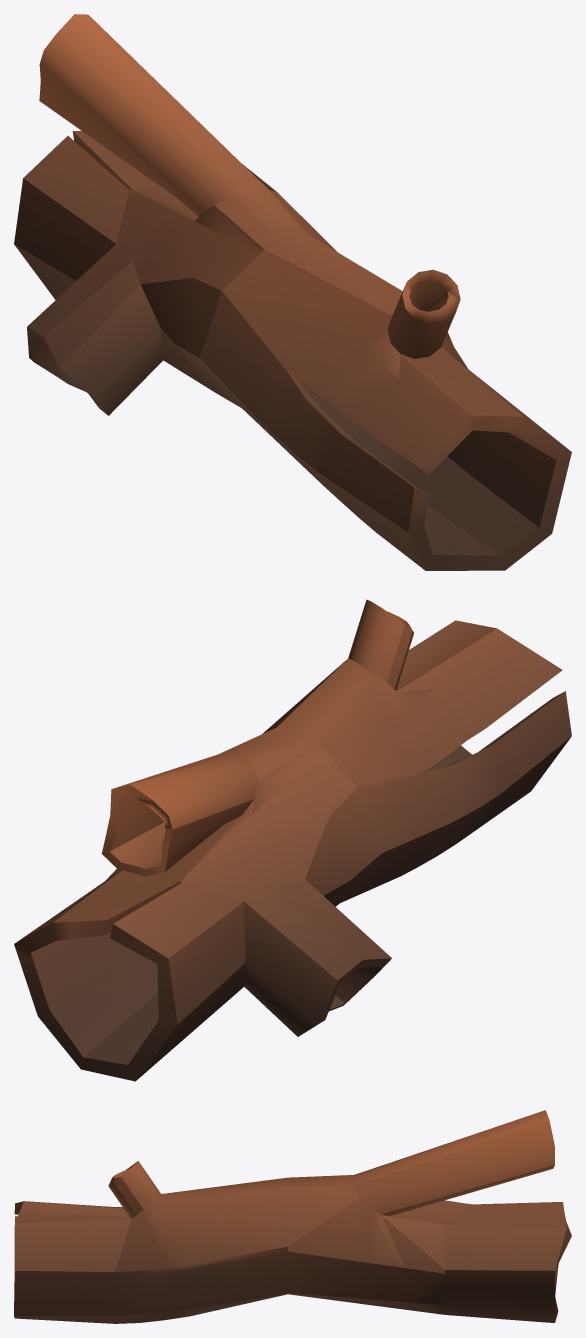
Rendered from maderaCaida4.fbx.
The picture shows the model from 3 angles, top to bottom: view 1: azimuth 30°, elevation 25°; view 2: azimuth 150°, elevation 25°; view 3: azimuth 270°, elevation 25°; orthographic projection. The views are drawn at different scales.
Parts seen in each view (by area): view 1: maderaCaida4; view 2: maderaCaida4; view 3: maderaCaida4.
Boxes of the visible parts, <box> form: maderaCaida4: <box>14,14,571,570</box>; maderaCaida4: <box>14,599,571,1081</box>; maderaCaida4: <box>14,1110,571,1323</box>.
Bounding box in the file's own units: 500 × 559 × 1422.
